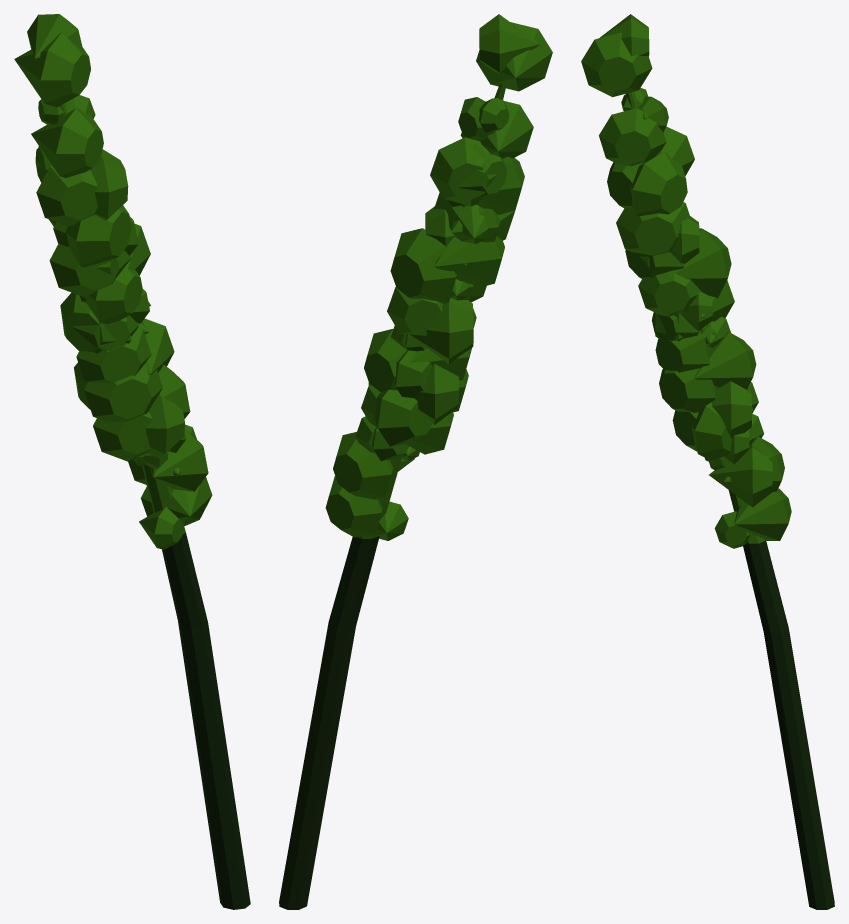
The model's file is g8-green.obj.
The picture shows the model from 3 angles, left to right: view 1: azimuth 30°, elevation 25°; view 2: azimuth 150°, elevation 25°; view 3: azimuth 330°, elevation 25°; orthographic projection. The views are drawn at different scales.
Visible parts, largest first — view 1: g9-green_Cylinder.013; view 2: g9-green_Cylinder.013; view 3: g9-green_Cylinder.013.
Boxes of the visible parts, bbox=[...] form: g9-green_Cylinder.013: bbox=[14, 14, 250, 909]; g9-green_Cylinder.013: bbox=[279, 14, 552, 909]; g9-green_Cylinder.013: bbox=[581, 14, 834, 909].
Size of the model in its own units: 1.14 by 4.22 by 0.49.
